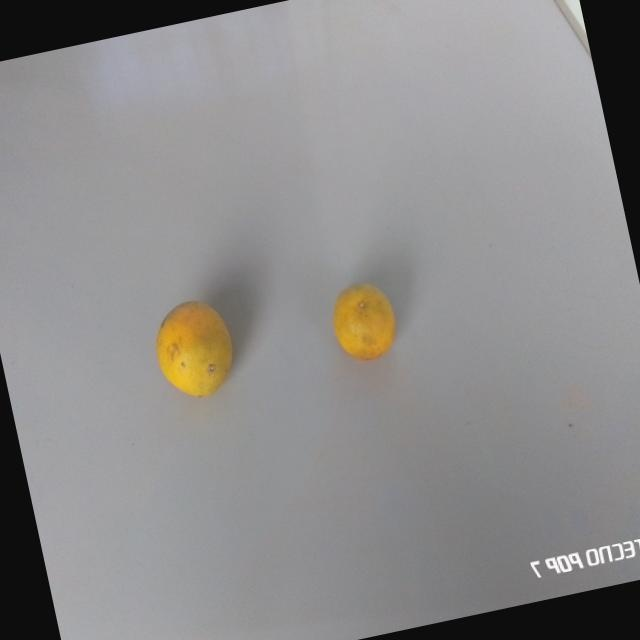agrume: (139, 284, 253, 415), (319, 268, 406, 372)
